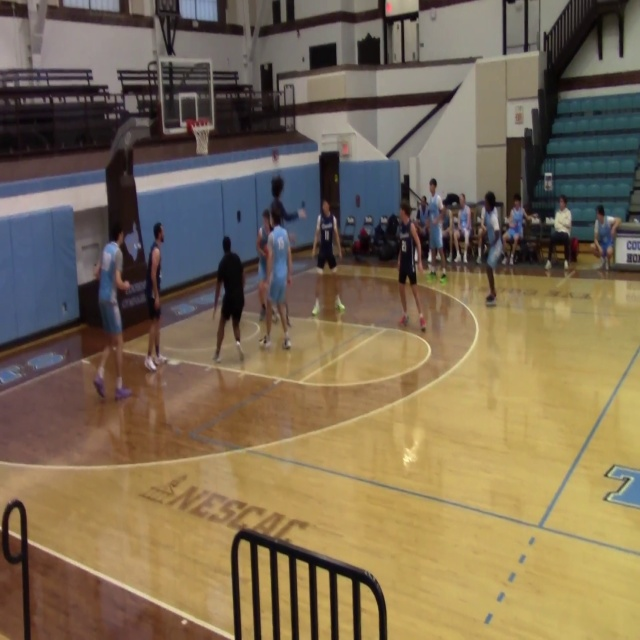Basketball: (439, 276, 446, 285)
